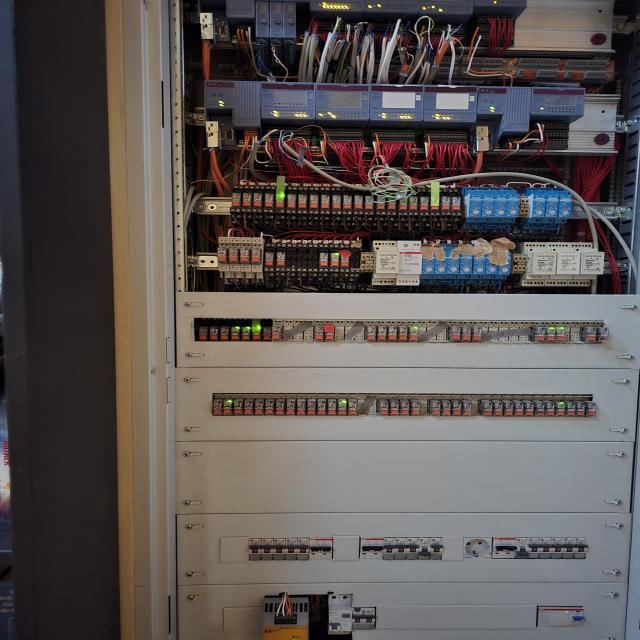Dimmer: (567, 242, 605, 287), (544, 242, 581, 286), (522, 242, 557, 286), (372, 241, 399, 285), (395, 241, 422, 285), (521, 188, 545, 231), (548, 188, 572, 230), (484, 187, 506, 231), (535, 188, 558, 230), (497, 187, 519, 230), (473, 187, 494, 230), (462, 187, 482, 229), (444, 247, 460, 279), (432, 248, 448, 279), (494, 252, 511, 280), (469, 254, 486, 279), (420, 251, 435, 279), (457, 254, 473, 279), (482, 254, 498, 279)
FI: (536, 606, 584, 627)
FI_Sicherungskombi: (328, 594, 354, 635)
Leitungsschutzschalter: (382, 537, 396, 560), (515, 537, 529, 559), (406, 537, 419, 560), (418, 537, 431, 560), (430, 537, 443, 560), (273, 538, 286, 560), (359, 537, 372, 559), (371, 537, 384, 559), (492, 537, 505, 559), (395, 537, 407, 560), (249, 539, 262, 560), (261, 539, 274, 560), (297, 538, 310, 559), (539, 538, 552, 559), (574, 538, 587, 559), (352, 608, 364, 630), (363, 607, 375, 629), (285, 538, 297, 560), (309, 538, 321, 559), (321, 538, 333, 559), (528, 538, 540, 559), (551, 538, 563, 559), (563, 538, 575, 559), (504, 538, 516, 558)
Relais: (338, 249, 351, 267), (530, 327, 545, 342), (582, 327, 597, 342), (479, 400, 493, 416), (596, 326, 609, 343), (428, 399, 441, 416), (378, 399, 390, 416), (324, 323, 335, 341), (447, 326, 460, 341), (365, 326, 377, 342), (243, 399, 255, 415), (399, 399, 410, 416), (389, 399, 400, 416), (440, 400, 451, 416), (233, 399, 244, 415), (254, 399, 265, 415), (264, 399, 275, 415), (229, 247, 239, 264), (240, 247, 250, 264), (319, 251, 329, 268), (306, 398, 316, 415), (398, 197, 410, 211), (585, 401, 596, 416), (555, 401, 566, 416), (534, 401, 545, 416), (524, 401, 535, 416), (314, 325, 324, 341), (388, 326, 398, 342), (493, 400, 503, 416), (348, 399, 358, 415), (223, 399, 233, 415), (296, 399, 306, 415), (327, 399, 337, 415), (460, 327, 471, 341), (218, 247, 227, 264), (411, 399, 420, 416), (242, 192, 252, 207), (309, 194, 319, 209), (409, 196, 419, 211), (251, 249, 261, 264), (199, 326, 209, 341), (209, 326, 219, 341), (220, 326, 230, 341), (377, 326, 387, 341), (471, 327, 481, 342), (545, 327, 555, 342), (556, 327, 566, 342), (575, 401, 585, 416), (566, 401, 576, 416), (514, 401, 524, 416), (504, 401, 514, 416), (212, 400, 222, 415), (452, 196, 461, 212), (276, 251, 285, 267), (252, 325, 261, 341), (272, 325, 281, 341), (409, 326, 418, 342), (463, 400, 472, 416), (452, 400, 461, 416), (338, 399, 347, 415), (275, 399, 284, 415), (286, 399, 295, 415), (317, 399, 326, 415), (419, 197, 429, 211), (398, 327, 408, 341), (232, 192, 241, 207), (264, 193, 273, 208), (298, 194, 307, 209), (332, 195, 341, 210), (330, 252, 339, 267), (231, 326, 240, 341), (241, 326, 250, 341), (545, 401, 554, 416), (442, 196, 450, 212), (253, 193, 262, 207), (287, 194, 296, 208), (321, 195, 330, 209), (431, 197, 440, 211), (354, 195, 363, 209), (364, 196, 373, 210), (265, 252, 274, 266), (262, 327, 271, 341), (343, 195, 351, 210), (276, 195, 284, 208), (377, 197, 385, 210), (388, 199, 396, 210)
SPS_System_Steuerungskomponente: (315, 83, 371, 121), (261, 81, 316, 119), (369, 84, 425, 121), (422, 85, 478, 122), (204, 79, 261, 109), (477, 86, 533, 115), (530, 87, 585, 116)
Verbinder: (511, 254, 526, 274), (359, 252, 374, 272), (518, 196, 529, 218)
